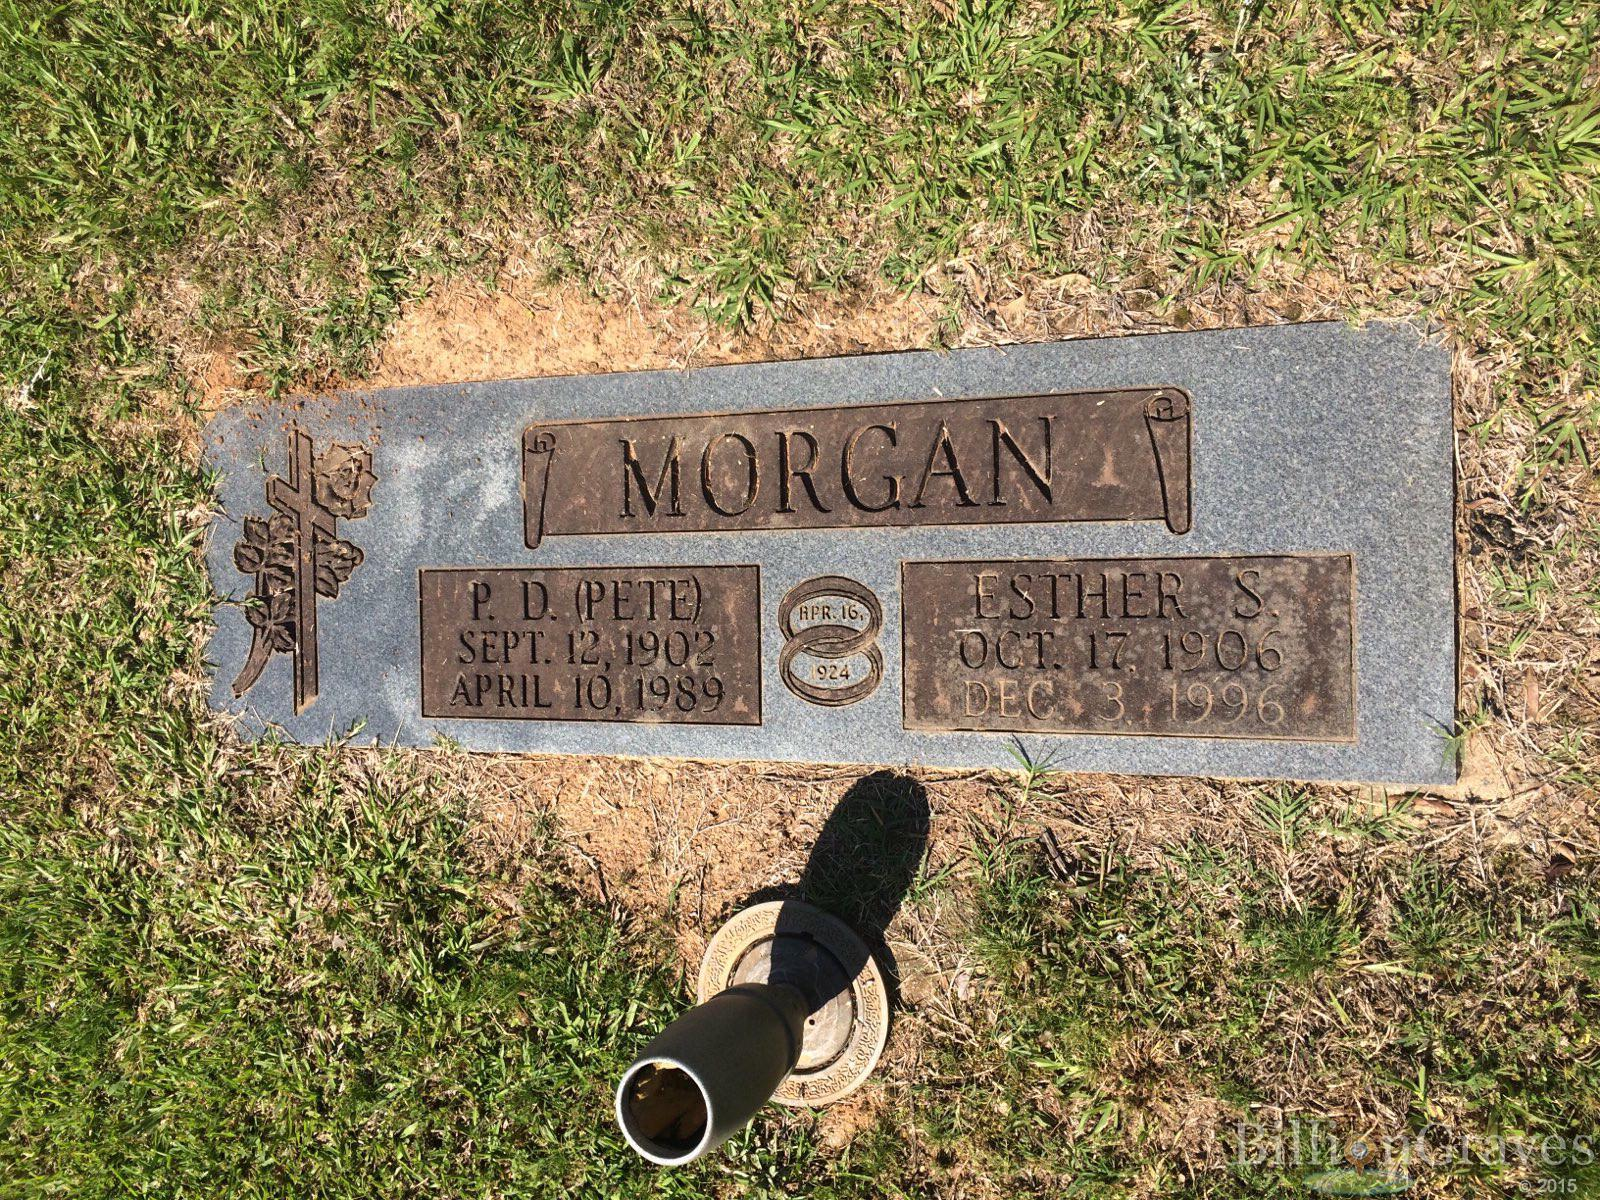flat: (181, 287, 1479, 799)
